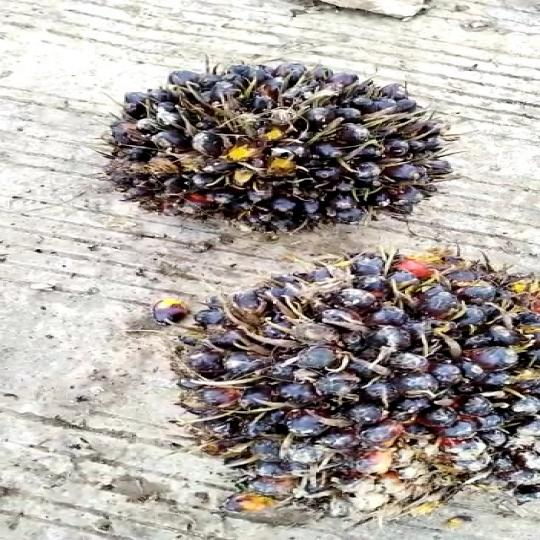mentah: (135, 248, 540, 527), (113, 45, 513, 246)
